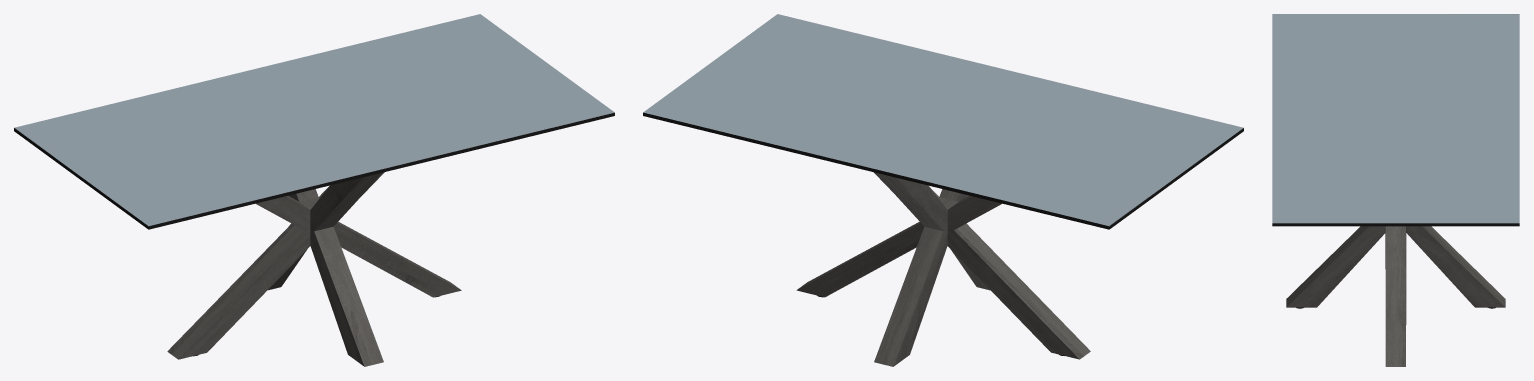
File: table.glb
The picture shows the model from 3 angles, left to right: view 1: azimuth 30°, elevation 25°; view 2: azimuth 150°, elevation 25°; view 3: azimuth 270°, elevation 25°; orthographic projection. The views are drawn at different scales.
Parts seen in each view (by area): view 1: Table; view 2: Table; view 3: Table.
Part boxes in pixels (x1,y1,x2,y2): Table: [14, 14, 614, 366]; Table: [643, 14, 1243, 366]; Table: [1272, 14, 1519, 366].
Bounding box in the file's own units: 2 × 0.8353 × 0.9988.
Materials: 1 (1 with a texture image).
